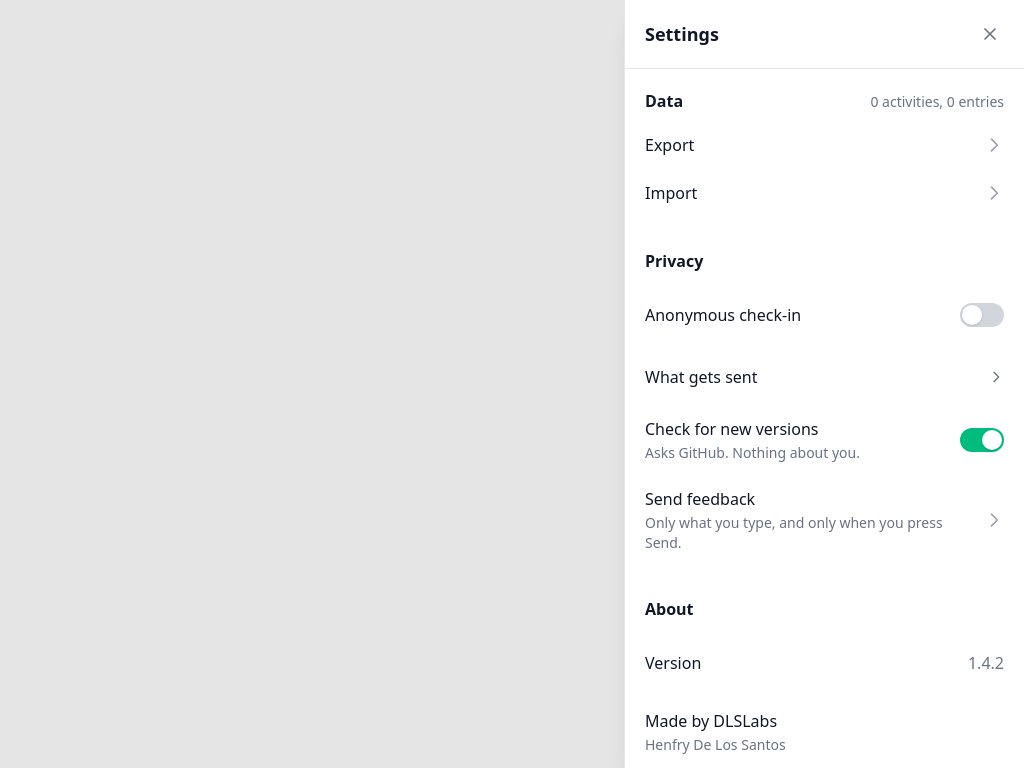
Test: what the switches cost › says the number goes when the check-in is turned off
The image size is (1024, 768).
Click the button with test id "checkin-what-gets-sent" at (701, 377), box [645, 353, 1004, 401]
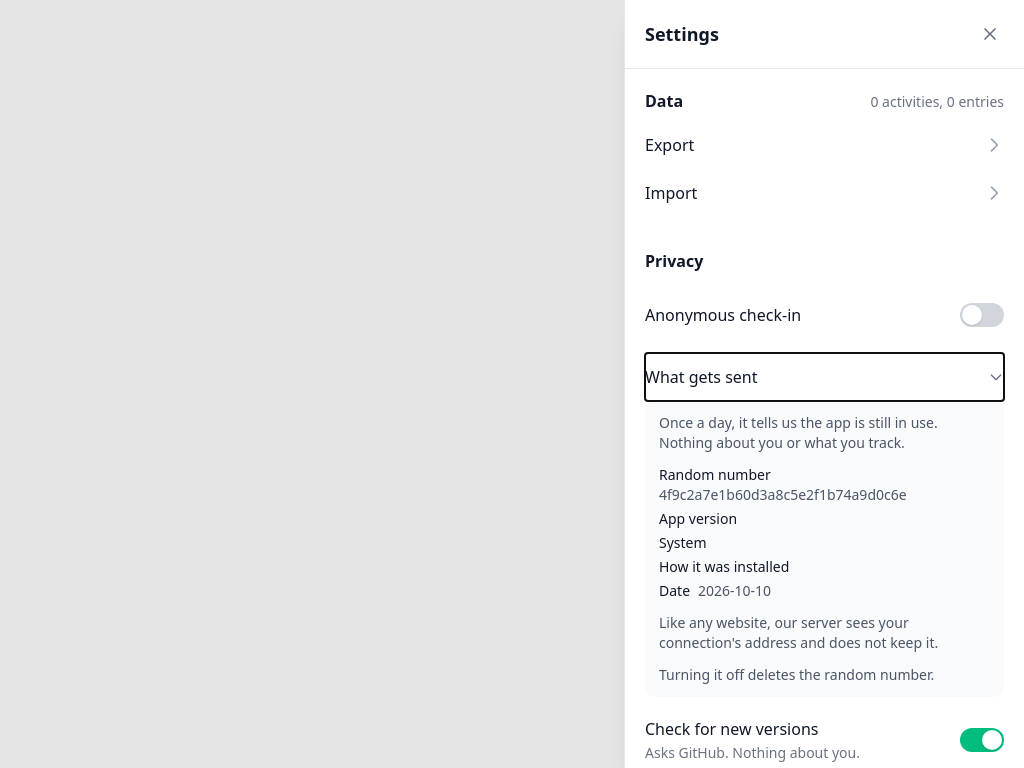
Now the text "Turning it off deletes the random number." is shown, box [659, 665, 934, 684]
